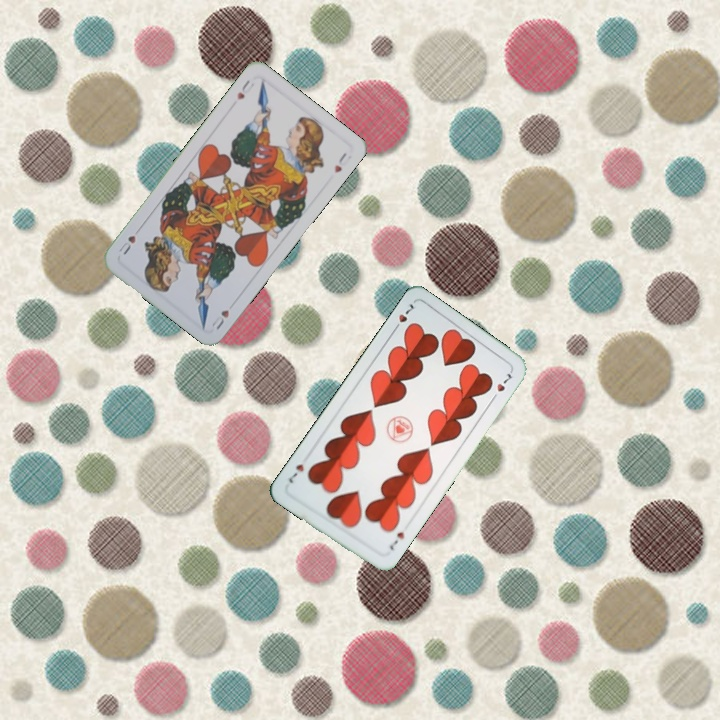H7: (389, 299, 417, 335), (385, 527, 407, 553)
HU: (233, 76, 257, 103), (208, 306, 232, 332)
